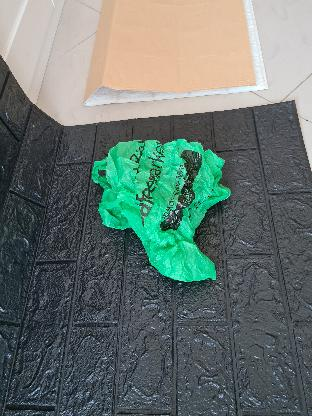Plastic Bag: (91, 138, 232, 282)
